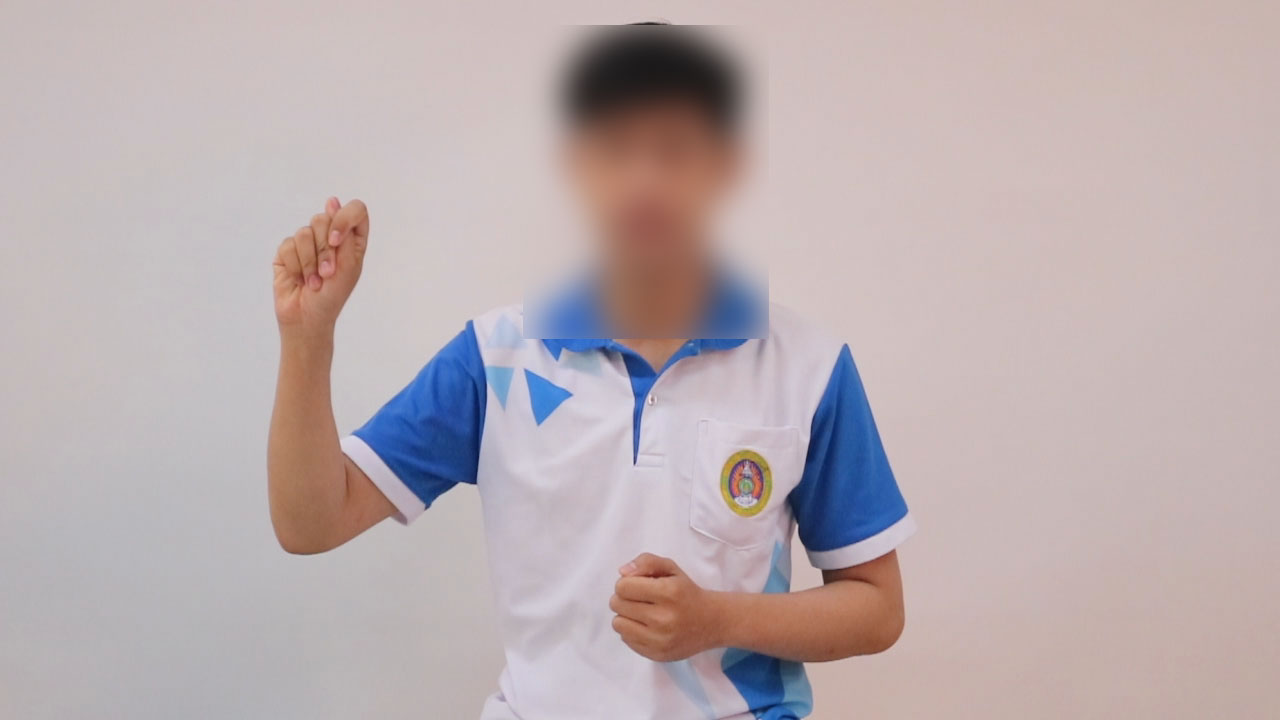tor: (249, 189, 382, 346)
